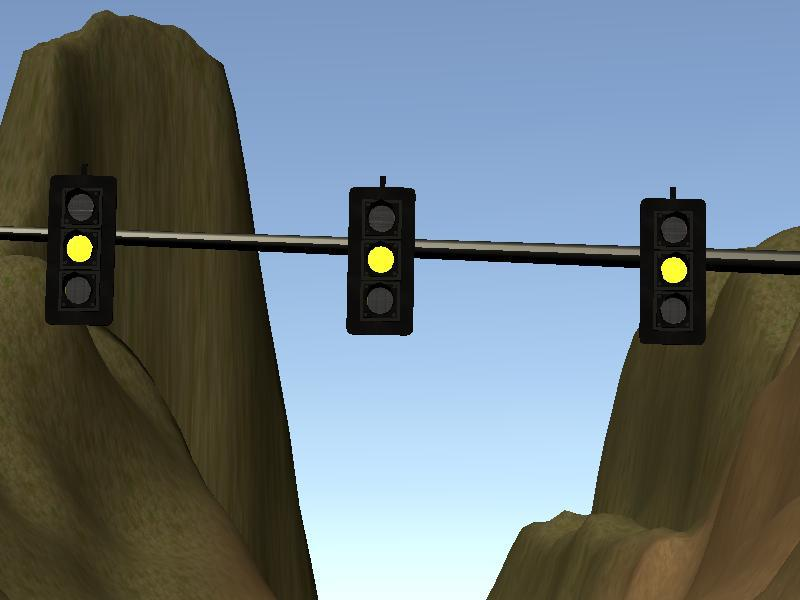Yellow: (48, 173, 113, 322), (350, 185, 412, 334), (640, 199, 704, 343)
